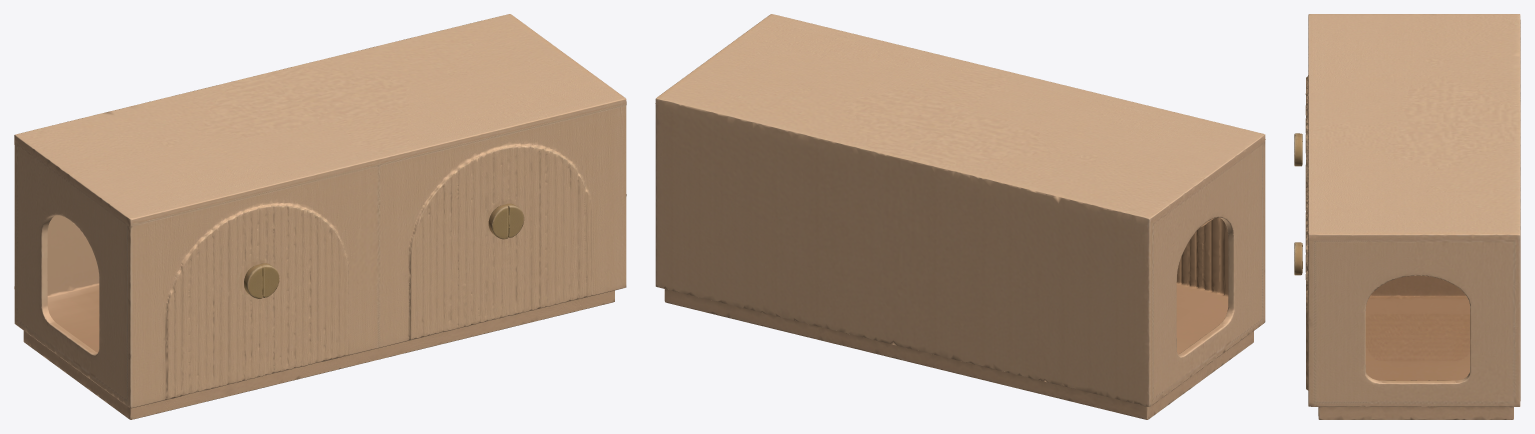
The model's file is Meshy_AI_Arched_Fluted_Oak_Cab_1116014353_texture.glb.
3 views of the same model, side by side, from view 1: azimuth 30°, elevation 25°; view 2: azimuth 150°, elevation 25°; view 3: azimuth 270°, elevation 25° (orthographic). The views are drawn at different scales.
Bounding box in the file's own units: 1.9 × 0.755 × 0.8222.
1 material, 1 textured.
